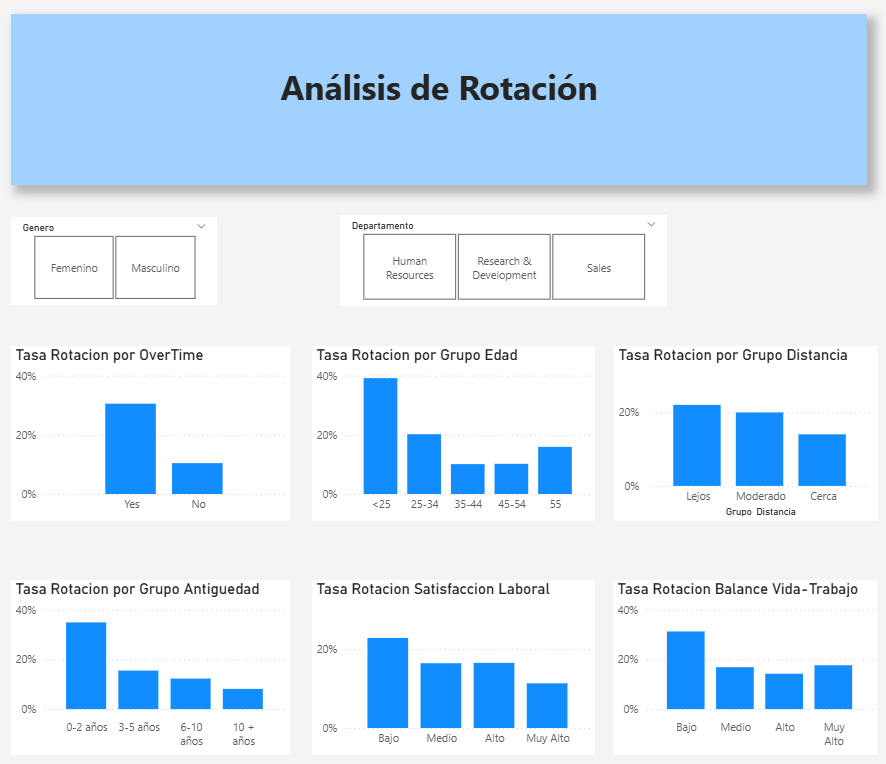

The dashboard page shown, as its layout file describes it:
{"tool":"powerbi","page":{"name":"Analisis de Rotacion","canvas":[1000,950],"ordinal":1},"visuals":[{"type":"clusteredColumnChart","title":"Tasa Rotacion por OverTime","fields":{"Category":["WA_Fn-UseC_-HR-Employee-Attrition.OverTime"],"Y":["Medidas.Tasa_Rotacion"]},"box":[13.3,402.2,310,194.4],"z":0},{"type":"clusteredColumnChart","title":"Tasa Rotacion por Grupo Edad","fields":{"Y":["Medidas.Tasa_Rotacion"],"Category":["WA_Fn-UseC_-HR-Employee-Attrition.Grupo_Edad"]},"box":[347.8,402.2,314.4,194.4],"z":1000},{"type":"clusteredColumnChart","title":"Tasa Rotacion por Grupo Antiguedad","fields":{"Y":["Medidas.Tasa_Rotacion"],"Category":["WA_Fn-UseC_-HR-Employee-Attrition.Grupo_Antiguedad"]},"box":[13.3,662.2,310,194.4],"z":2000},{"type":"clusteredColumnChart","title":"Tasa Rotacion por Grupo Distancia","fields":{"Y":["Medidas.Tasa_Rotacion"],"Category":["WA_Fn-UseC_-HR-Employee-Attrition.Grupo_Distancia"]},"box":[683.3,402.2,293.3,194.4],"z":3000},{"type":"clusteredColumnChart","title":"Tasa Rotacion Balance Vida-Trabajo","fields":{"Y":["Medidas.Tasa_Rotacion"],"Category":["Dim_Balance.Descripcion"]},"box":[682.2,662.2,294.4,194.4],"z":4000},{"type":"clusteredColumnChart","title":"Tasa Rotacion Satisfaccion Laboral","fields":{"Y":["Medidas.Tasa_Rotacion"],"Category":["Dim_Satisfaccion.Descripcion"]},"box":[347.8,662.2,314.4,194.4],"z":5000},{"type":"slicer","fields":{"Values":["WA_Fn-UseC_-HR-Employee-Attrition.Gender"]},"box":[13.3,258.6,228.9,97.8],"z":6000},{"type":"slicer","fields":{"Values":["WA_Fn-UseC_-HR-Employee-Attrition.Department"]},"box":[378.9,256.9,363.3,101.1],"z":7000},{"type":"textbox","box":[13.3,33.3,951.1,190],"z":8000}]}

Visuals, with their boxes on the page's 1000x950 design canvas (x1, y1, x2, y2). These are canvas units, not pixel positions in the 886x764 screenshot, which may show the page scaled, cropped or inside an application window:
"Tasa Rotacion por OverTime" clusteredColumnChart: bbox=[13, 402, 323, 597]
"Tasa Rotacion por Grupo Edad" clusteredColumnChart: bbox=[348, 402, 662, 597]
"Tasa Rotacion por Grupo Antiguedad" clusteredColumnChart: bbox=[13, 662, 323, 857]
"Tasa Rotacion por Grupo Distancia" clusteredColumnChart: bbox=[683, 402, 977, 597]
"Tasa Rotacion Balance Vida-Trabajo" clusteredColumnChart: bbox=[682, 662, 977, 857]
"Tasa Rotacion Satisfaccion Laboral" clusteredColumnChart: bbox=[348, 662, 662, 857]
slicer - WA_Fn-UseC_-HR-Employee-Attrition.Gender: bbox=[13, 259, 242, 356]
slicer - WA_Fn-UseC_-HR-Employee-Attrition.Department: bbox=[379, 257, 742, 358]
textbox: bbox=[13, 33, 964, 223]
